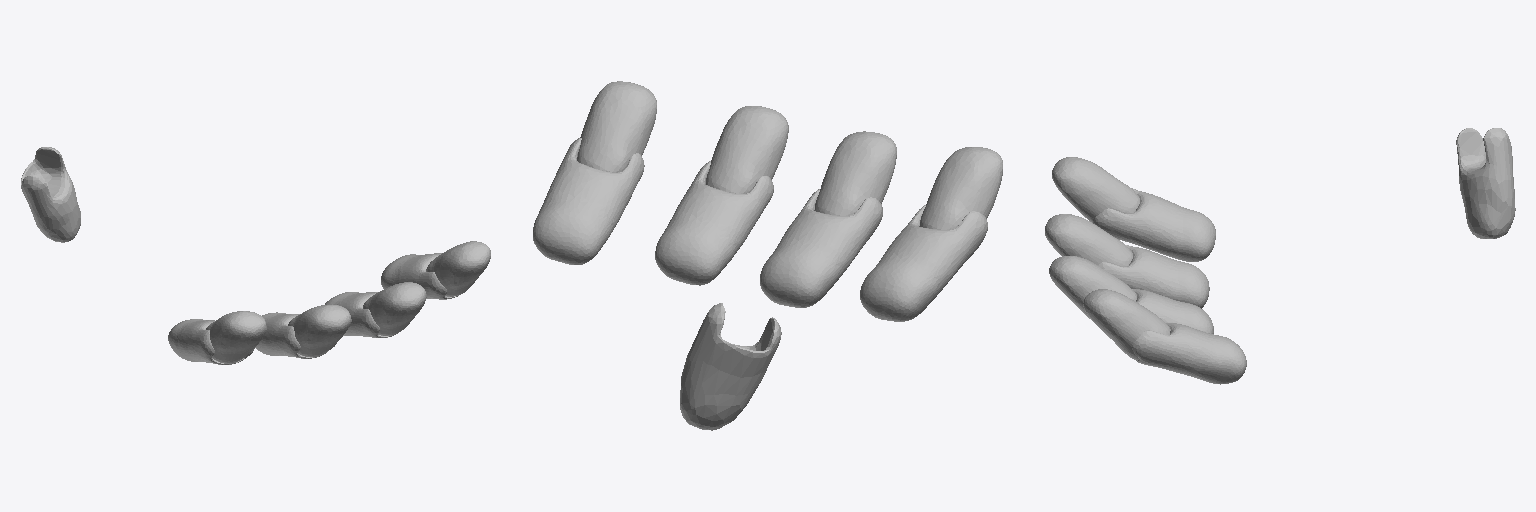
URDF robot description (vr_hand_vhacd_right):
<robot name="vr_hand_vhacd_right">
 <link name="base">
		<inertial>
      <origin xyz="0 0 0" rpy="0 0 0"/>
      <mass value="0.12" />
      <inertia ixx="9.46434e-06" ixy="0.0" ixz="0.0" iyy="1.22209e-05" iyz="-2.49433e-17" izz="1.71183e-05"/>
    </inertial>
	</link>

  <link name="palm">
    <inertial>
      <origin xyz="0 0 0" rpy="0 0 0"/>
      <mass value="0.12"/>
      <inertia ixx="9.46434e-06" ixy="0.0" ixz="0.0" iyy="1.22209e-05" iyz="-2.49433e-17" izz="1.71183e-05"/>
    </inertial>
    <visual>
      <origin xyz="0 0 0" rpy="0 0 0"/>
      <geometry>
        <mesh filename="meshes/palm.obj" scale="0.001 0.001 0.001"/>
      </geometry>
      <material name="palm_color">
        <color rgba="0.74902 0.74902 0.74902 1.0"/>
      </material>
    </visual>
    <collision>
      <origin xyz="0 0 0" rpy="0 0 0"/>
      <geometry>
        <mesh filename="vhacd_meshes/palm.obj" scale="0.001 0.001 0.001"/>
      </geometry>
    </collision>
  </link>

  <joint name="palm__base" type="fixed">
		<origin xyz="0 0 0" rpy="0 0 0"/>
		<parent link="base"/>
		<child link="palm"/>
  	</joint>
  
  <link name="Rproximal">
    <inertial>
      <origin xyz="-0.00506265498327 0.000178411167835 -0.0113952992502" rpy="0 0 0"/>
      <mass value="0.0046468"/>
      <inertia ixx="3.60659e-07" ixy="2.95375e-10" ixz="3.96643e-12" iyy="4.02251e-07" iyz="7.4602e-09" izz="1.59669e-07"/>
    </inertial>
    <visual>
      <origin xyz="0.00532660458173 -0.00134315858259 -0.0128298354943" rpy="0 0 0"/>
      <geometry>
        <mesh filename="meshes/seg_L.obj" scale="0.001 0.001 0.001"/>
      </geometry>
      <material name="Rproximal_color">
        <color rgba="0.74902 0.74902 0.74902 1.0"/>
      </material>
    </visual>
    <collision>
      <origin xyz="0.00532660458173 -0.00134315858259 -0.0128298354943" rpy="0 0 0"/>
      <geometry>
        <mesh filename="vhacd_meshes/seg_L.obj" scale="0.001 0.001 0.001"/>
      </geometry>
    </collision>
  </link>
  
  <joint name="Rproximal__palm" type="revolute">
    <origin xyz="0.017963 -0.079365 0.00148931" rpy="-1.83998062112 -0.070428847363 0.101332262919"/>
    <axis xyz="-1.00000007251 -8.46220030541e-08 1.44225053858e-07"/>
    <parent link="base"/>
    <child link="Rproximal"/>
    <limit effort="0.5" lower="0.0" upper="1.4835298642" velocity="1.0"/>
    <dynamics damping="0.1"/>
  </joint>
  
  <link name="Rmiddle">
    <inertial>
      <origin xyz="-0.0050627375168 0.000178703837342 -0.0113961050151" rpy="0 0 0"/>
      <mass value="0.0046468"/>
      <inertia ixx="3.60659e-07" ixy="2.95375e-10" ixz="3.96643e-12" iyy="4.02251e-07" iyz="7.4602e-09" izz="1.59669e-07"/>
    </inertial>
    <visual>
      <origin xyz="0.00532662722179 -0.00134303584663 -0.0128300831679" rpy="0 0 0"/>
      <geometry>
        <mesh filename="meshes/seg_finger_tip.obj" scale="0.001 0.001 0.001"/>
      </geometry>
      <material name="Rmiddle_color">
        <color rgba="0.74902 0.74902 0.74902 1.0"/>
      </material>
    </visual>
    <collision>
      <origin xyz="0.00532662722179 -0.00134303584663 -0.0128300831679" rpy="0 0 0"/>
      <geometry>
        <mesh filename="vhacd_meshes/seg_finger_tip.obj" scale="0.001 0.001 0.001"/>
      </geometry>
    </collision>
  </link>
  
  <joint name="Rmiddle__Rproximal" type="revolute">
    <origin xyz="0 0 -0.0258747809103" rpy="-0.0872670609142 0 2.76912342671e-07"/>
    <axis xyz="-1.00000007251 1.72767385245e-07 2.31542720386e-07"/>
    <parent link="Rproximal"/>
    <child link="Rmiddle"/>
    <limit effort="0.5" lower="0.0" upper="1.4835298642" velocity="1.0"/>
    <dynamics damping="0.1"/>
  </joint>
  
  <link name="Mproximal">
    <inertial>
      <origin xyz="-0.00506268032219 0.000178369758776 -0.0113951959251" rpy="0 0 0"/>
      <mass value="0.0046468"/>
      <inertia ixx="3.60659e-07" ixy="2.95375e-10" ixz="3.96643e-12" iyy="4.02251e-07" iyz="7.4602e-09" izz="1.59669e-07"/>
    </inertial>
    <visual>
      <origin xyz="0.00532660055243 -0.00134318776557 -0.0128295627043" rpy="0 0 0"/>
      <geometry>
        <mesh filename="meshes/seg_L.obj" scale="0.001 0.001 0.001"/>
      </geometry>
      <material name="Mproximal_color">
        <color rgba="0.74902 0.74902 0.74902 1.0"/>
      </material>
    </visual>
    <collision>
      <origin xyz="0.00532660055243 -0.00134318776557 -0.0128295627043" rpy="0 0 0"/>
      <geometry>
        <mesh filename="vhacd_meshes/seg_L.obj" scale="0.001 0.001 0.001"/>
      </geometry>
    </collision>
  </link>
  
  <joint name="Mproximal__palm" type="revolute">
    <origin xyz="-0.00678586 -0.080973 0.00076618" rpy="-1.83324870939 0.0859369188285 -0.0151906736407"/>
    <axis xyz="-1.00000030441 -5.71235363176e-07 2.22119205119e-07"/>
    <parent link="base"/>
    <child link="Mproximal"/>
    <limit effort="0.5" lower="0.0" upper="1.4835298642" velocity="1.0"/>
    <dynamics damping="0.1"/>
  </joint>
  
  <link name="Mmiddle">
    <inertial>
      <origin xyz="-0.00506269201108 0.000178473714736 -0.0113956264739" rpy="0 0 0"/>
      <mass value="0.0046468"/>
      <inertia ixx="3.60659e-07" ixy="2.95375e-10" ixz="3.96643e-12" iyy="4.02251e-07" iyz="7.4602e-09" izz="1.59669e-07"/>
    </inertial>
    <visual>
      <origin xyz="0.00532662940519 -0.001342939287 -0.012830098266" rpy="0 0 0"/>
      <geometry>
        <mesh filename="meshes/seg_finger_tip.obj" scale="0.001 0.001 0.001"/>
      </geometry>
      <material name="Mmiddle_color">
        <color rgba="0.74902 0.74902 0.74902 1.0"/>
      </material>
    </visual>
    <collision>
      <origin xyz="0.00532662940519 -0.001342939287 -0.012830098266" rpy="0 0 0"/>
      <geometry>
        <mesh filename="vhacd_meshes/seg_finger_tip.obj" scale="0.001 0.001 0.001"/>
      </geometry>
    </collision>
  </link>
  
  <joint name="Mmiddle__Mproximal" type="revolute">
    <origin xyz="0 -2.41651877793e-07 -0.0258742142625" rpy="-0.0872661749543 2.70259221066e-07 3.1679265362e-07"/>
    <axis xyz="-1.00000030441 -2.49278715942e-07 -7.0132973715e-08"/>
    <parent link="Mproximal"/>
    <child link="Mmiddle"/>
    <limit effort="0.5" lower="0.0" upper="1.4835298642" velocity="1.0"/>
    <dynamics damping="0.1"/>
  </joint>
  
  <link name="Pproximal">
    <inertial>
      <origin xyz="-0.00506265004772 0.000178471691603 -0.0113954440839" rpy="0 0 0"/>
      <mass value="0.0046468"/>
      <inertia ixx="3.60659e-07" ixy="2.95375e-10" ixz="3.96643e-12" iyy="4.02251e-07" iyz="7.4602e-09" izz="1.59669e-07"/>
    </inertial>
    <visual>
      <origin xyz="0.00532669695333 -0.00134327559708 -0.0128292006118" rpy="0 0 0"/>
      <geometry>
        <mesh filename="meshes/seg_L.obj" scale="0.001 0.001 0.001"/>
      </geometry>
      <material name="Pproximal_color">
        <color rgba="0.74902 0.74902 0.74902 1.0"/>
      </material>
    </visual>
    <collision>
      <origin xyz="0.00532669695333 -0.00134327559708 -0.0128292006118" rpy="0 0 0"/>
      <geometry>
        <mesh filename="vhacd_meshes/seg_L.obj" scale="0.001 0.001 0.001"/>
      </geometry>
    </collision>
  </link>
  
  <joint name="Pproximal__palm" type="revolute">
    <origin xyz="0.0426264 -0.070128 0.0038631" rpy="-1.86212856709 -0.138702648968 0.204065548896"/>
    <axis xyz="-0.999999718358 -2.63813422101e-07 -1.77932631934e-07"/>
    <parent link="base"/>
    <child link="Pproximal"/>
    <limit effort="0.5" lower="0.0" upper="1.4835298642" velocity="1.0"/>
    <dynamics damping="0.1"/>
  </joint>
  
  <link name="Pmiddle">
    <inertial>
      <origin xyz="-0.00506271792241 0.000178454269957 -0.0113956275282" rpy="0 0 0"/>
      <mass value="0.0046468"/>
      <inertia ixx="3.60659e-07" ixy="2.95375e-10" ixz="3.96643e-12" iyy="4.02251e-07" iyz="7.4602e-09" izz="1.59669e-07"/>
    </inertial>
    <visual>
      <origin xyz="0.00532646642137 -0.00134299429342 -0.0128302748856" rpy="0 0 0"/>
      <geometry>
        <mesh filename="meshes/seg_finger_tip.obj" scale="0.001 0.001 0.001"/>
      </geometry>
      <material name="Pmiddle_color">
        <color rgba="0.74902 0.74902 0.74902 1.0"/>
      </material>
    </visual>
    <collision>
      <origin xyz="0.00532646642137 -0.00134299429342 -0.0128302748856" rpy="0 0 0"/>
      <geometry>
        <mesh filename="vhacd_meshes/seg_finger_tip.obj" scale="0.001 0.001 0.001"/>
      </geometry>
    </collision>
  </link>
  
  <joint name="Pmiddle__Pproximal" type="revolute">
    <origin xyz="1.71429768873e-07 0 -0.0258743732015" rpy="-0.0872666026479 1.06320174575e-07 0"/>
    <axis xyz="-0.999999718358 -2.69819360882e-07 -3.08944752836e-07"/>
    <parent link="Pproximal"/>
    <child link="Pmiddle"/>
    <limit effort="0.5" lower="0.0" upper="1.4835298642" velocity="1.0"/>
    <dynamics damping="0.1"/>
  </joint>
  
  <link name="Tproximal">
    <inertial>
      <origin xyz="-0.00509118037371 -0.000108367330619 -0.00917567646424" rpy="0 0 0"/>
      <mass value="0.00379261"/>
      <inertia ixx="3.44891e-07" ixy="-5.85841e-09" ixz="-1.40349e-09" iyy="2.90581e-07" iyz="-9.57879e-09" izz="2.1814e-07"/>
    </inertial>
    <visual>
      <origin xyz="-0.00506247937312 1.51098425411e-07 -0.00864845498031" rpy="0 0 0"/>
      <geometry>
        <mesh filename="meshes/seg_M.obj" scale="0.001 0.001 0.001"/>
      </geometry>
      <material name="Tproximal_color">
        <color rgba="0.74902 0.74902 0.74902 1.0"/>
      </material>
    </visual>
    <collision>
      <origin xyz="-0.00506247937312 1.51098425411e-07 -0.00864845498031" rpy="0 0 0"/>
      <geometry>
        <mesh filename="vhacd_meshes/seg_M.obj" scale="0.001 0.001 0.001"/>
      </geometry>
    </collision>
  </link>
  
  <joint name="Tproximal__palm" type="revolute">
    <origin xyz="-0.041263 -0.024646 0.0157" rpy="-2.9762 0.36199 -2.4578"/>
    <axis xyz="-1.00000015905 4.04301755325e-07 -1.03967894405e-07"/>
    <parent link="base"/>
    <child link="Tproximal"/>
    <limit effort="0.5" lower="0.0" upper="1.57079632679" velocity="1.0"/>
    <dynamics damping="0.1"/>
  </joint>
  
  <link name="Tmiddle">
    <inertial>
      <origin xyz="-0.00509145714593 -0.000109508075581 -0.00917619264503" rpy="0 0 0"/>
      <mass value="0.00379261"/>
      <inertia ixx="3.44891e-07" ixy="-5.85841e-09" ixz="-1.40349e-09" iyy="2.90581e-07" iyz="-9.57879e-09" izz="2.1814e-07"/>
    </inertial>
    <visual>
      <origin xyz="-0.00506255005155 -3.30490933204e-07 -0.00864867274502" rpy="0 0 0"/>
      <geometry>
        <mesh filename="meshes/seg_thumb_tip.obj" scale="0.001 0.001 0.001"/>
      </geometry>
      <material name="Tmiddle_color">
        <color rgba="0.74902 0.74902 0.74902 1.0"/>
      </material>
    </visual>
    <collision>
      <origin xyz="-0.00506255005155 -3.30490933204e-07 -0.00864867274502" rpy="0 0 0"/>
      <geometry>
        <mesh filename="vhacd_meshes/seg_thumb_tip.obj" scale="0.001 0.001 0.001"/>
      </geometry>
    </collision>
  </link>
  
  <joint name="Tmiddle__Tproximal" type="revolute">
    <origin xyz="1.61327491782e-07 6.88063125837e-07 -0.0215856949813" rpy="-0.00953533375442 -2.2361018211e-07 -5.28725690007e-07"/>
    <axis xyz="-1.00000015905 -1.25559174474e-07 1.18450477621e-07"/>
    <parent link="Tproximal"/>
    <child link="Tmiddle"/>
    <limit effort="0.5" lower="0.0" upper="1.57079632679" velocity="1.0"/>
    <dynamics damping="0.1"/>
  </joint>

  <link name="Iproximal">
    <inertial>
      <origin xyz="-0.00506269303095 0.000178661194879 -0.0113960183486" rpy="0 0 0"/>
      <mass value="0.0046468"/>
      <inertia ixx="3.60659e-07" ixy="2.95375e-10" ixz="3.96643e-12" iyy="4.02251e-07" iyz="7.4602e-09" izz="1.59669e-07"/>
    </inertial>
    <visual>
      <origin xyz="0.00532665437356 -0.00134306865084 -0.0128298343462" rpy="0 0 0"/>
      <geometry>
        <mesh filename="meshes/seg_L.obj" scale="0.001 0.001 0.001"/>
      </geometry>
      <material name="Iproximal_color">
        <color rgba="0.74902 0.74902 0.74902 1.0"/>
      </material>
    </visual>
    <collision>
      <origin xyz="0.00532665437356 -0.00134306865084 -0.0128298343462" rpy="0 0 0"/>
      <geometry>
        <mesh filename="vhacd_meshes/seg_L.obj" scale="0.001 0.001 0.001"/>
      </geometry>
    </collision>
  </link>
  
  <joint name="Iproximal__palm" type="revolute">
    <origin xyz="-0.0318425 -0.079883 0.00351788" rpy="-1.84942615384 0.155854888307 -0.117563434836"/>
    <axis xyz="-0.999999806433 -3.11064646163e-07 -1.92575397934e-07"/>
    <parent link="base"/>
    <child link="Iproximal"/>
    <limit effort="0.5" lower="0.0" upper="1.4835298642" velocity="1.0"/>
    <dynamics damping="0.1"/>
  </joint>
  
  <link name="Imiddle">
    <inertial>
      <origin xyz="-0.00506266070615 0.000178528721729 -0.0113957955067" rpy="0 0 0"/>
      <mass value="0.0046468"/>
      <inertia ixx="3.60659e-07" ixy="2.95375e-10" ixz="3.96643e-12" iyy="4.02251e-07" iyz="7.4602e-09" izz="1.59669e-07"/>
    </inertial>
    <visual>
      <origin xyz="0.00532665674393 -0.00134322760034 -0.012829627881" rpy="0 0 0"/>
      <geometry>
        <mesh filename="meshes/seg_finger_tip.obj" scale="0.001 0.001 0.001"/>
      </geometry>
      <material name="Imiddle_color">
        <color rgba="0.74902 0.74902 0.74902 1.0"/>
      </material>
    </visual>
    <collision>
      <origin xyz="0.00532665674393 -0.00134322760034 -0.012829627881" rpy="0 0 0"/>
      <geometry>
        <mesh filename="vhacd_meshes/seg_finger_tip.obj" scale="0.001 0.001 0.001"/>
      </geometry>
    </collision>
  </link>
  
  <joint name="Imiddle__Iproximal" type="revolute">
    <origin xyz="0 0 -0.0258750517122" rpy="-0.0872662181335 -6.1944905734e-07 4.44119679405e-07"/>
    <axis xyz="-0.999999806433 9.5344259203e-08 4.3684563622e-07"/>
    <parent link="Iproximal"/>
    <child link="Imiddle"/>
    <limit effort="0.5" lower="0.0" upper="1.4835298642" velocity="1.0"/>
    <dynamics damping="0.1"/>
  </joint>
</robot>

--- What the picture shows (computed from the rendered views, not written in the file) ---
Views: 3 orthographic renders of the robot side by side, from view 1: azimuth 30°, elevation 25°; view 2: azimuth 150°, elevation 25°; view 3: azimuth 270°, elevation 25°.
Model vr_hand_vhacd_right with 12 links and 11 joints (10 revolute, 1 fixed), rooted at base, posed all joints at 0.
Links seen in each view (by area): view 1: Pmiddle, Imiddle, Tproximal, Mmiddle, Rmiddle; view 2: Pmiddle, Rmiddle, Mmiddle, Imiddle, Tproximal; view 3: Imiddle, Pmiddle, Mmiddle, Tproximal, Rmiddle.
Boxes of the visible links, x1,y1,x2,y2 form: Pmiddle: [381, 241, 490, 299]; Imiddle: [168, 311, 266, 364]; Tproximal: [21, 147, 80, 242]; Mmiddle: [255, 304, 351, 358]; Rmiddle: [325, 282, 426, 337]; Pmiddle: [533, 81, 656, 264]; Rmiddle: [655, 106, 788, 285]; Mmiddle: [760, 131, 896, 307]; Imiddle: [860, 147, 1002, 321]; Tproximal: [680, 303, 781, 430]; Imiddle: [1052, 157, 1215, 261]; Pmiddle: [1083, 289, 1246, 384]; Mmiddle: [1045, 214, 1209, 308]; Tproximal: [1456, 128, 1515, 238]; Rmiddle: [1049, 256, 1213, 333].
Bounding box of the posed robot: 0.1082 × 0.1325 × 0.0421 m (x, y, z).
Meshes: 5 distinct files referenced, 5 mesh visuals loaded (2 OBJ); not drawn: 6 (reference not matched to a file when rendering).